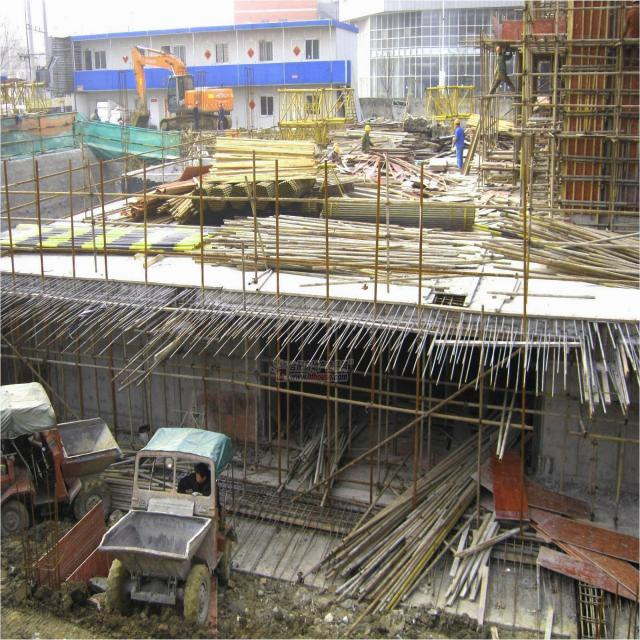head_helmet: (496, 46, 503, 54), (364, 124, 371, 131), (334, 147, 341, 154), (332, 142, 340, 148), (454, 119, 460, 125), (195, 100, 199, 106), (219, 100, 222, 105)
person: (489, 44, 516, 94), (178, 462, 210, 496), (453, 119, 466, 172), (361, 124, 375, 155), (328, 142, 342, 160), (193, 99, 201, 129), (217, 100, 225, 129)
